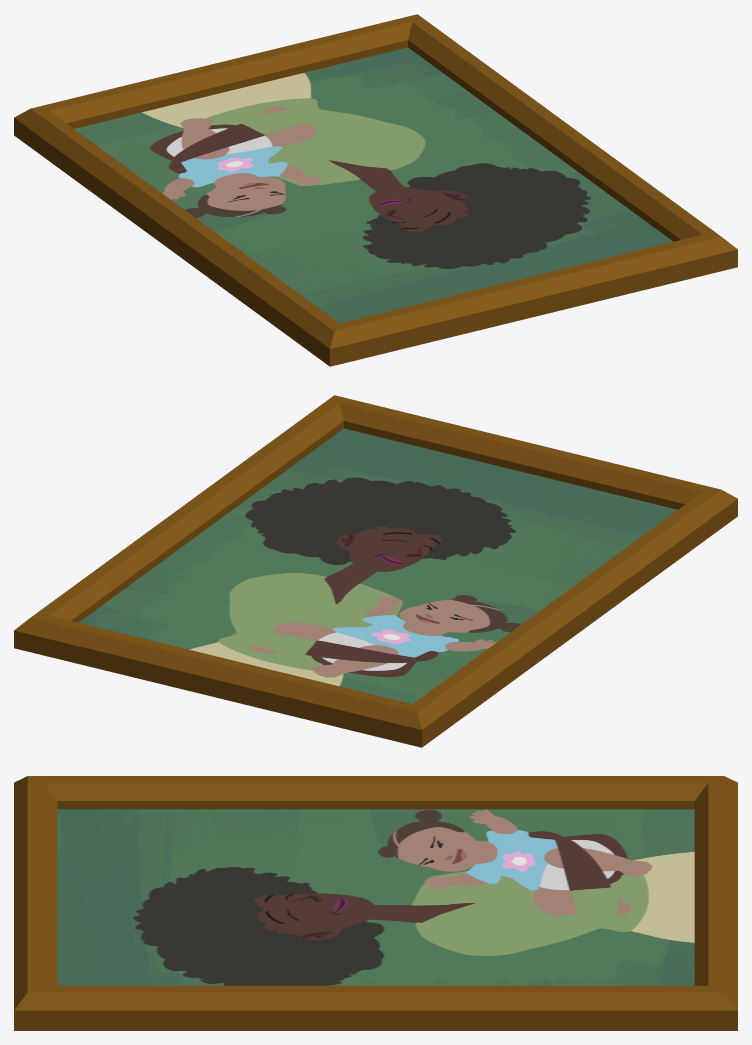
Rendered from momPhoto.glb.
The picture shows the model from 3 angles, top to bottom: view 1: azimuth 30°, elevation 25°; view 2: azimuth 150°, elevation 25°; view 3: azimuth 270°, elevation 25°; orthographic projection. The views are drawn at different scales.
Parts seen in each view (by area): view 1: momPhoto; view 2: momPhoto; view 3: momPhoto.
Part boxes in pixels (bbox=[...]): momPhoto: bbox=[14, 14, 737, 366]; momPhoto: bbox=[14, 395, 737, 747]; momPhoto: bbox=[14, 776, 737, 1030].
Size of the model in its own units: 1.49 by 0.1 by 2.
Materials: 2 (1 with a texture image).
